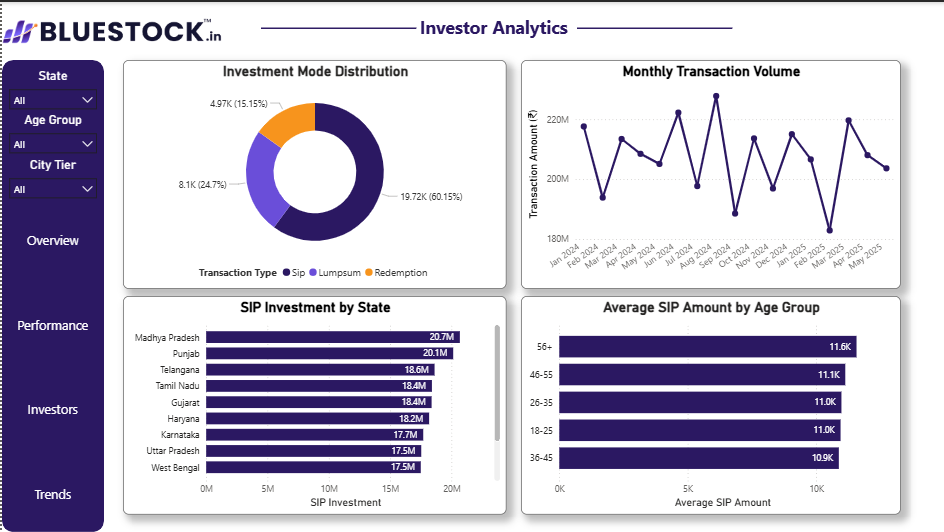

The dashboard page shown, as its layout file describes it:
{"tool":"powerbi","page":{"name":"Investors","canvas":[1280,720],"ordinal":2},"visuals":[{"type":"shape","box":[0,78.6,138.6,641.4],"z":0},{"type":"pageNavigator","box":[0,270,138.6,450],"z":1000},{"type":"textbox","box":[562.9,12.9,218.6,42.9],"z":2000},{"type":"shape","box":[351.4,14.3,211.4,41.4],"z":3000},{"type":"shape","box":[781.4,14.3,211.4,41.4],"z":4000},{"type":"donutChart","title":"Investment Mode Distribution","fields":{"Category":["investor_transactions_cleaned.transaction_type"],"Y":["CountNonNull(investor_transactions_cleaned.transaction_type)"]},"box":[164.3,78.6,521.4,311.4],"z":5000},{"type":"lineChart","title":"Monthly Transaction Volume","fields":{"Y":["Sum(investor_transactions_cleaned.amount_inr)"],"Category":["investor_transactions_cleaned.Month Year"]},"box":[705.7,78.6,515.7,311.4],"z":6000},{"type":"clusteredBarChart","title":"SIP Investment by State","fields":{"Category":["investor_transactions_cleaned.state"],"Y":["Sum(investor_transactions_cleaned.amount_inr)"]},"box":[164.3,400,521.4,297.1],"z":7000},{"type":"clusteredBarChart","title":"Average SIP Amount by Age Group","fields":{"Category":["investor_transactions_cleaned.age_group"],"Y":["Avg(investor_transactions_cleaned.amount_inr)"]},"box":[705.7,400,515.7,297.1],"z":8000},{"type":"slicer","title":"City Tier","fields":{"Values":["investor_transactions_cleaned.city_tier"]},"box":[0,210,138.6,60],"z":9000},{"type":"slicer","title":"Age Group","fields":{"Values":["investor_transactions_cleaned.age_group"]},"box":[0,150,138.6,60],"z":10000},{"type":"slicer","title":"State","fields":{"Values":["investor_transactions_cleaned.state"]},"box":[0,90,138.6,60],"z":11000},{"type":"image","box":[0,0,300,78.6],"z":12000}]}

Visuals, with their boxes on the page's 1280x720 design canvas (x1, y1, x2, y2). These are canvas units, not pixel positions in the 944x532 screenshot, which may show the page scaled, cropped or inside an application window:
shape: [0, 79, 139, 720]
pageNavigator: [0, 270, 139, 720]
textbox: [563, 13, 782, 56]
shape: [351, 14, 563, 56]
shape: [781, 14, 993, 56]
"Investment Mode Distribution" donutChart: [164, 79, 686, 390]
"Monthly Transaction Volume" lineChart: [706, 79, 1221, 390]
"SIP Investment by State" clusteredBarChart: [164, 400, 686, 697]
"Average SIP Amount by Age Group" clusteredBarChart: [706, 400, 1221, 697]
"City Tier" slicer: [0, 210, 139, 270]
"Age Group" slicer: [0, 150, 139, 210]
"State" slicer: [0, 90, 139, 150]
image: [0, 0, 300, 79]
